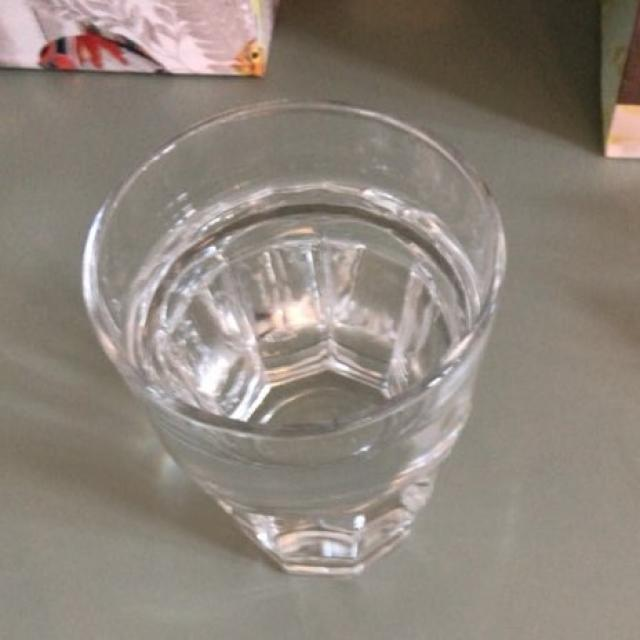water: (114, 190, 481, 500)
